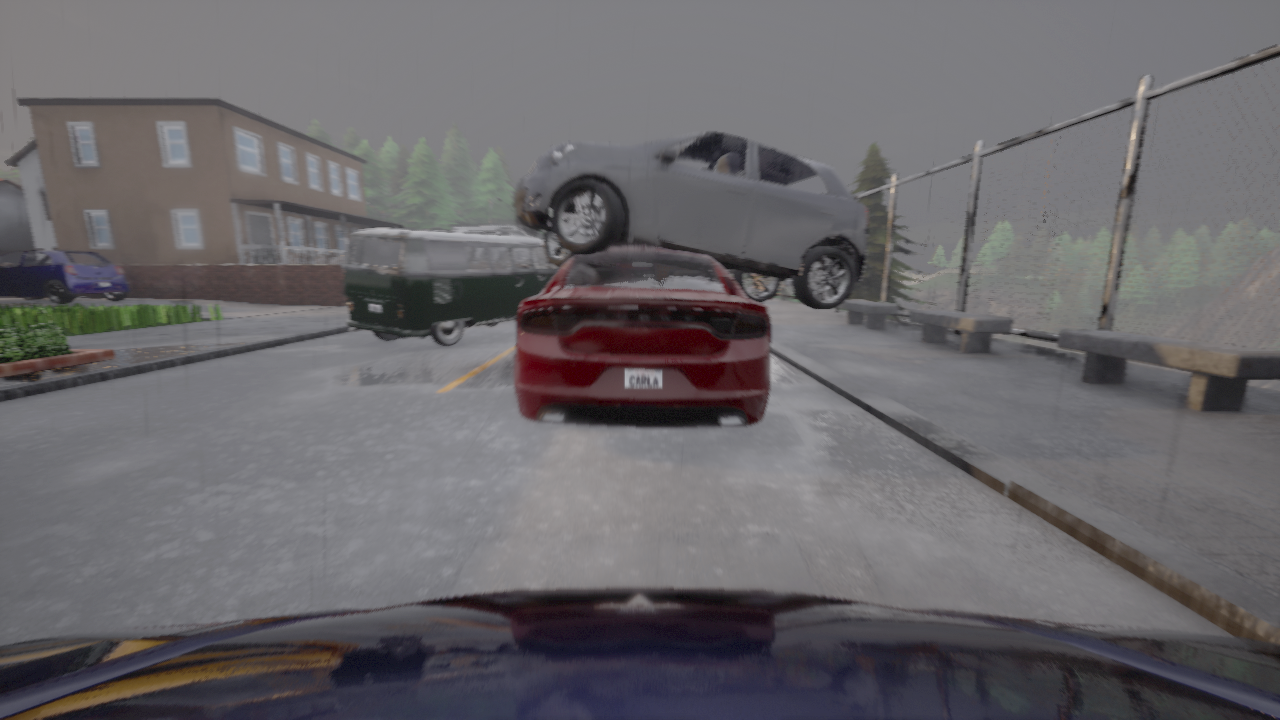cyclist: (0, 588, 1279, 719), (513, 132, 868, 310), (515, 245, 770, 427), (343, 229, 559, 346), (0, 249, 129, 303), (452, 225, 539, 238)
pedestrian: (345, 253, 346, 254)
